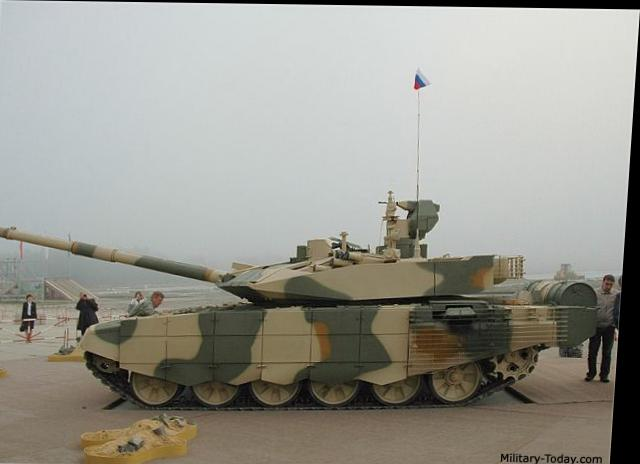other: (590, 269, 625, 381), (80, 291, 104, 327), (24, 291, 41, 334), (148, 287, 169, 313)
tank: (91, 198, 598, 409)
